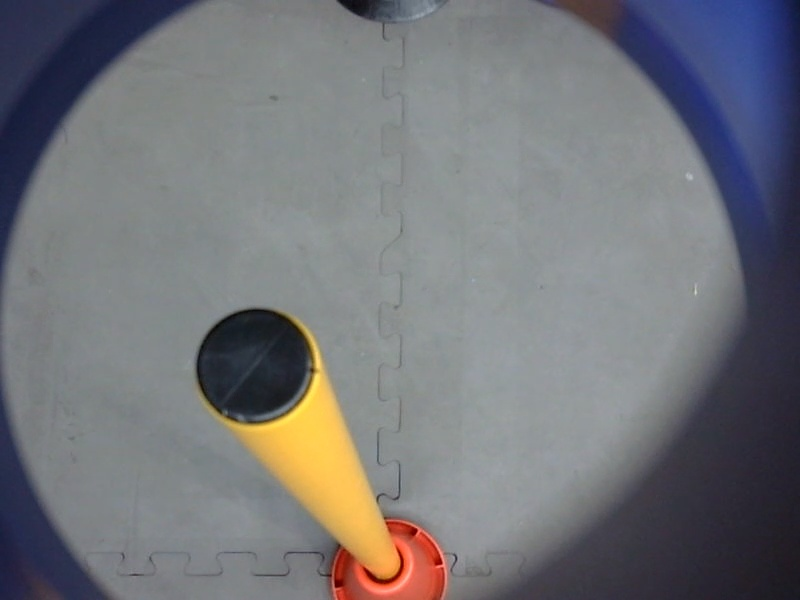tip: (187, 296, 323, 438)
